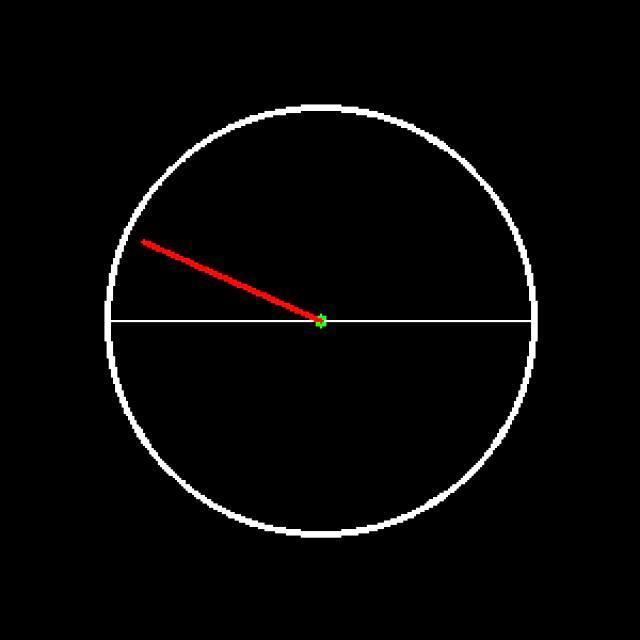Needle_Tip: (119, 235, 183, 269)
Needle_base: (288, 299, 342, 346)
